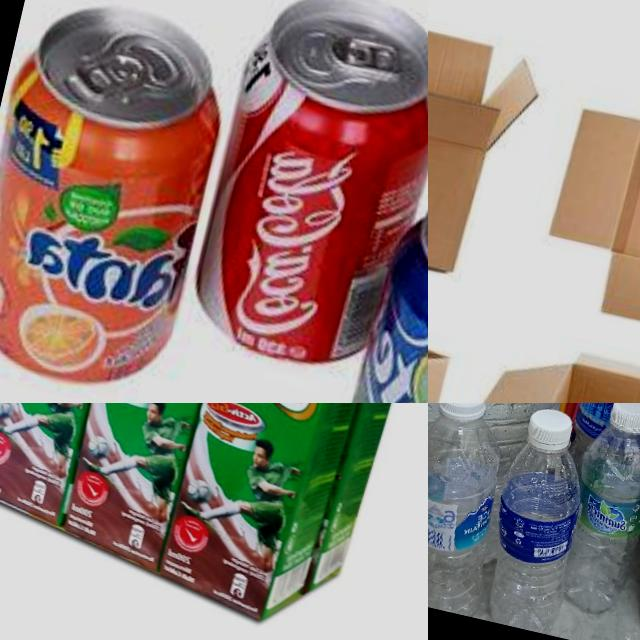aba de lata: (65, 43, 147, 111), (326, 26, 410, 80)
caixinha: (0, 403, 426, 640)
garrafa plástica: (530, 37, 640, 364), (428, 0, 549, 287), (428, 403, 592, 576), (480, 436, 590, 634), (548, 418, 640, 617), (428, 406, 506, 615), (552, 403, 640, 520)
lata: (0, 0, 243, 403), (181, 0, 428, 384), (322, 155, 428, 403)
tampa plástica: (522, 404, 577, 456), (435, 403, 496, 424), (606, 403, 640, 440)
